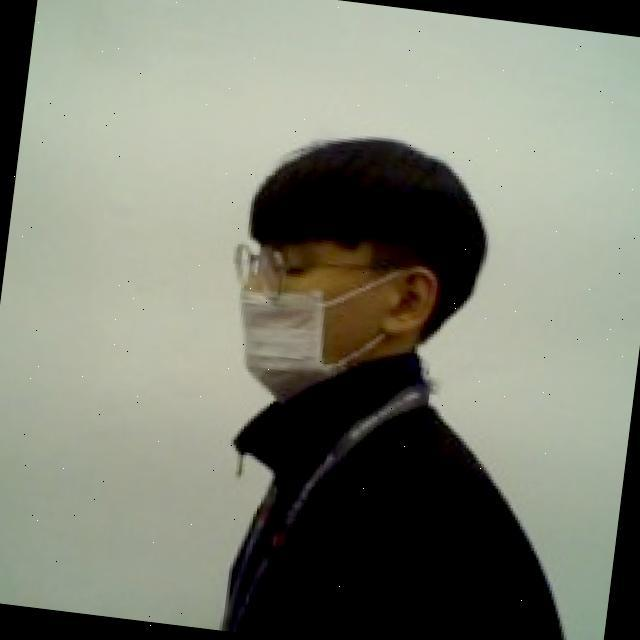mask: (224, 245, 435, 424)
no_gloves: (232, 114, 504, 318)
